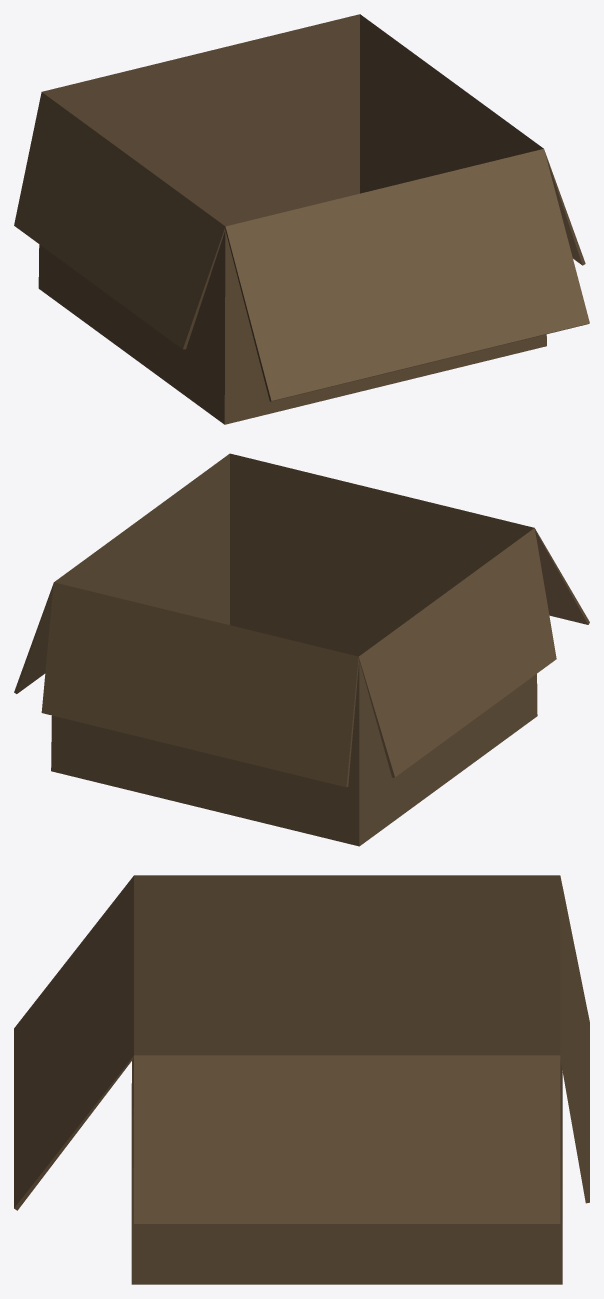
The model's file is lador.fbx.
3 renders of one model, top to bottom at view 1: azimuth 30°, elevation 25°; view 2: azimuth 150°, elevation 25°; view 3: azimuth 270°, elevation 25°, orthographic. The views are drawn at different scales.
Visible parts, largest first — view 1: Plane; view 2: Plane; view 3: Plane.
Boxes of the visible parts, x1,y1,x2,y2 form: Plane: [14, 14, 589, 424]; Plane: [14, 453, 589, 846]; Plane: [14, 875, 589, 1284].
Bounding box in the file's own units: 123 × 59.14 × 135.
